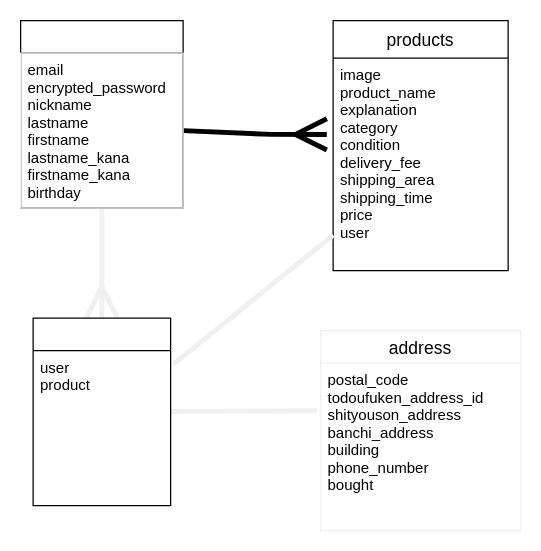
This 541x551 diagram has some shape labels left out. The box of each missing label's shape, as (x1, y1, x2, y2) in pixels:
boughts: (32, 317, 171, 506)
users: (19, 19, 183, 208)
